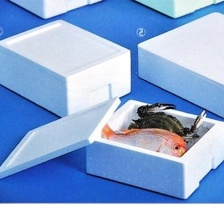foam_box: (0, 94, 224, 200), (0, 15, 135, 121), (135, 9, 223, 120), (0, 0, 113, 22), (125, 0, 224, 21)
